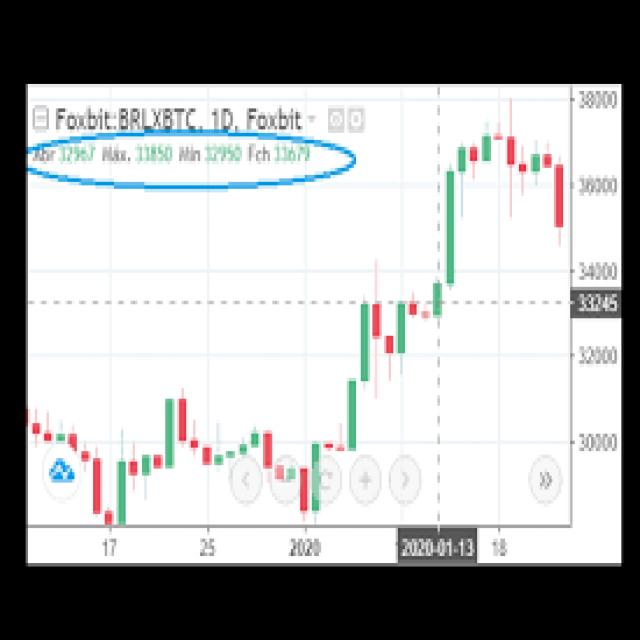bandeira_alta: (326, 248, 432, 466)
